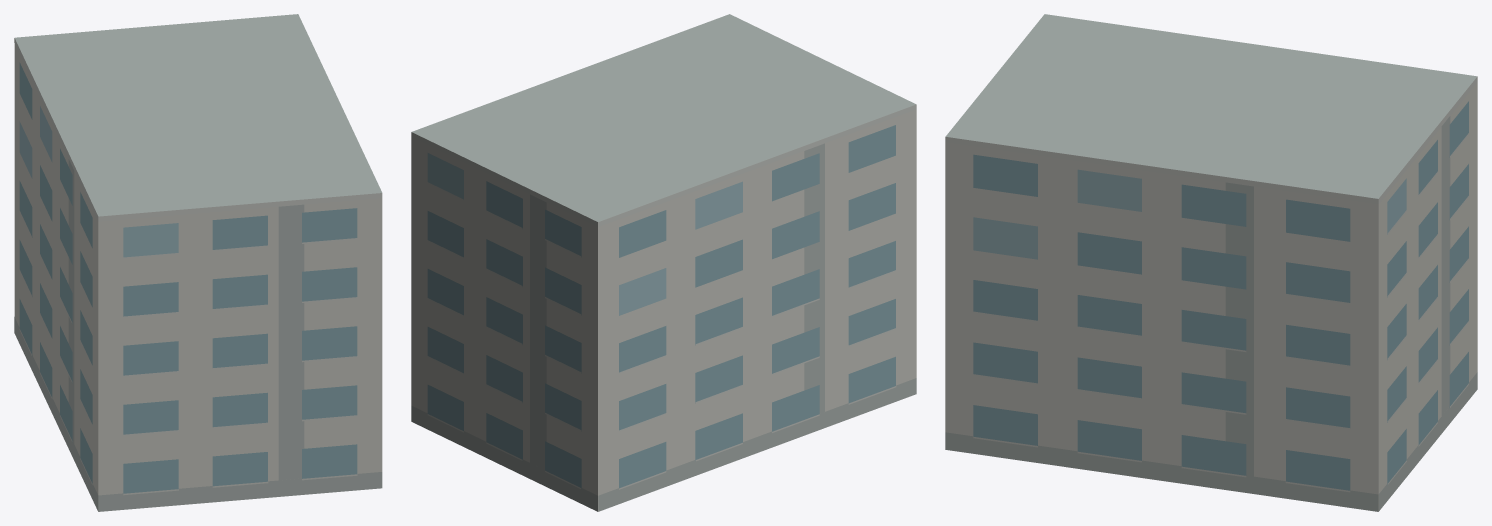
The model's file is survey-upis-33037409.glb.
3 views of the same model, side by side, from view 1: azimuth 30°, elevation 25°; view 2: azimuth 150°, elevation 25°; view 3: azimuth 270°, elevation 25° (orthographic). The views are drawn at different scales.
Visible parts, largest first — view 1: survey-upis-33037409.tmp; view 2: survey-upis-33037409.tmp; view 3: survey-upis-33037409.tmp.
Part boxes in pixels (x1,y1,x2,y2): survey-upis-33037409.tmp: [14, 14, 382, 511]; survey-upis-33037409.tmp: [411, 14, 916, 511]; survey-upis-33037409.tmp: [945, 14, 1477, 511].
Bounding box in the file's own units: 17.62 × 13.9 × 21.43.
